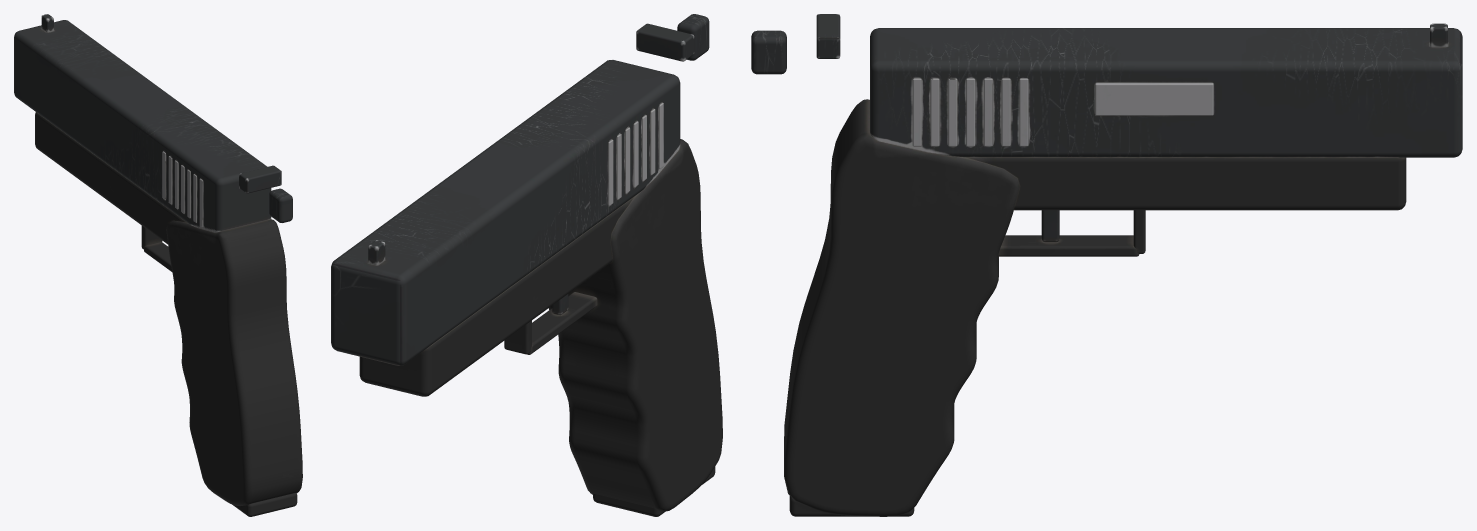
The model's file is usp45.gltf.
3 views of the same model, side by side, from view 1: azimuth 30°, elevation 25°; view 2: azimuth 150°, elevation 25°; view 3: azimuth 270°, elevation 25° (orthographic). The views are drawn at different scales.
Visible parts, largest first — view 1: Frame, Mag_body; view 2: Frame, Mag_body; view 3: Frame.
Part boxes in pixels (left/top/right/bottom): Frame: left=14, top=14, right=302, bottom=505; Mag_body: left=232, top=493, right=297, bottom=516; Frame: left=331, top=14, right=722, bottom=511; Mag_body: left=593, top=466, right=715, bottom=516; Frame: left=751, top=14, right=1462, bottom=516.
Bounding box in the file's own units: 0.0328 × 0.1771 × 0.24.
4 materials, 4 textured.
